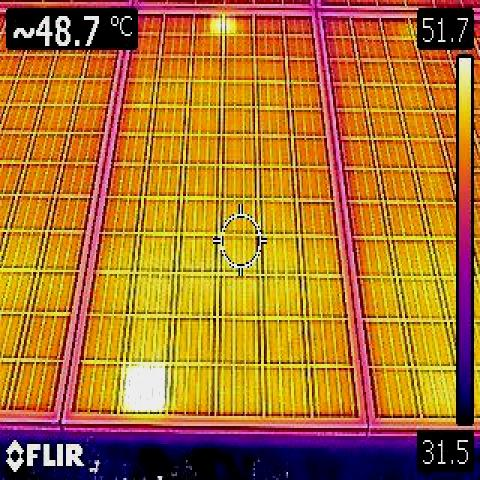fault: (121, 362, 165, 412), (210, 14, 235, 33)
